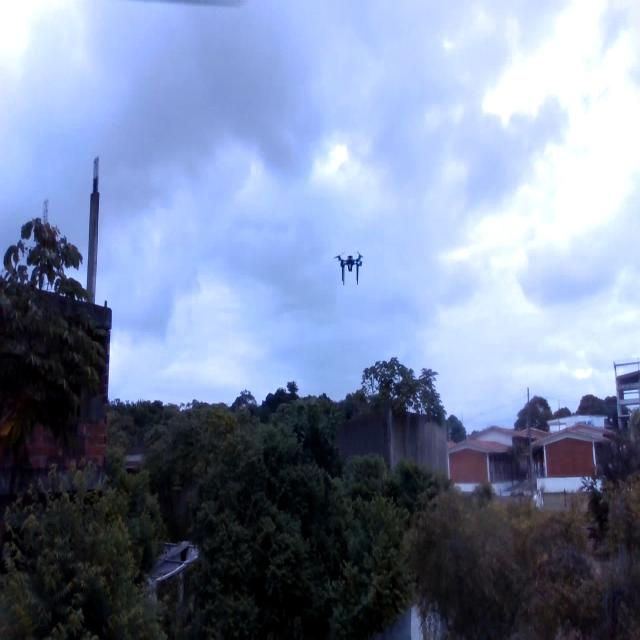-uav-: (330, 234, 367, 292)
